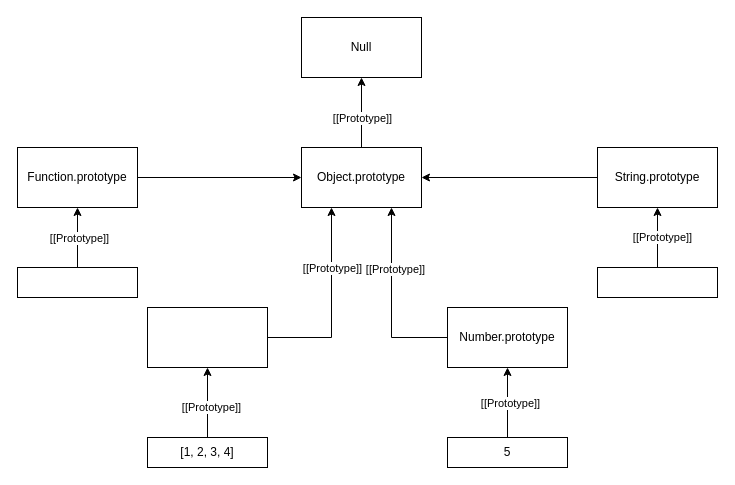
The diagram is 735 pixels wide and 485 high, and some of its shapes have lost their labels. The box of each missing label's shape, as (x1, y1, x2, y2) in pixels:
'String': (596, 266, 718, 298)
Array.prototype: (146, 306, 268, 368)
function() {}: (16, 266, 138, 298)
